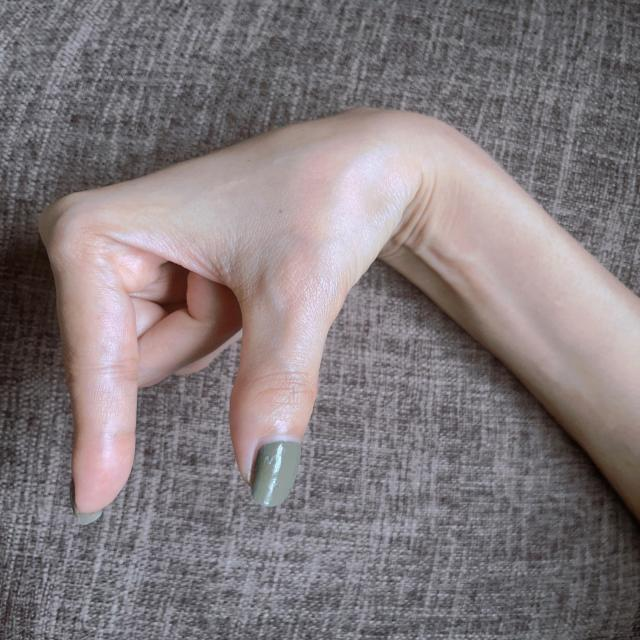Q: (35, 105, 411, 519)
